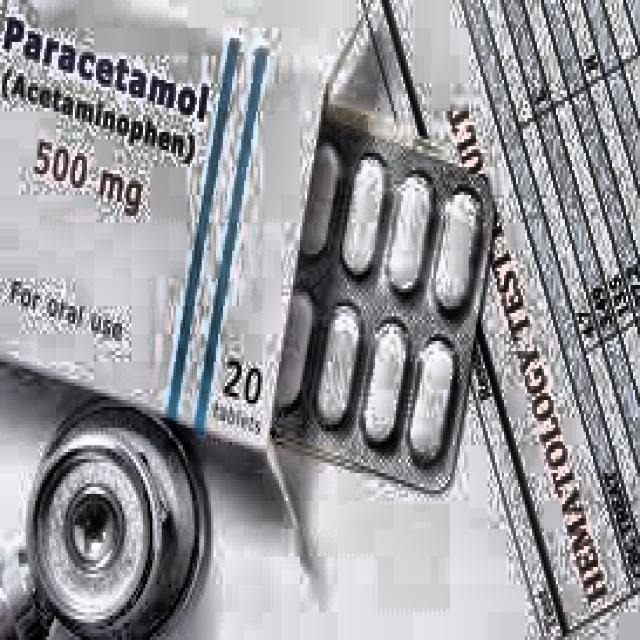Paracetamol: (2, 2, 245, 160)
